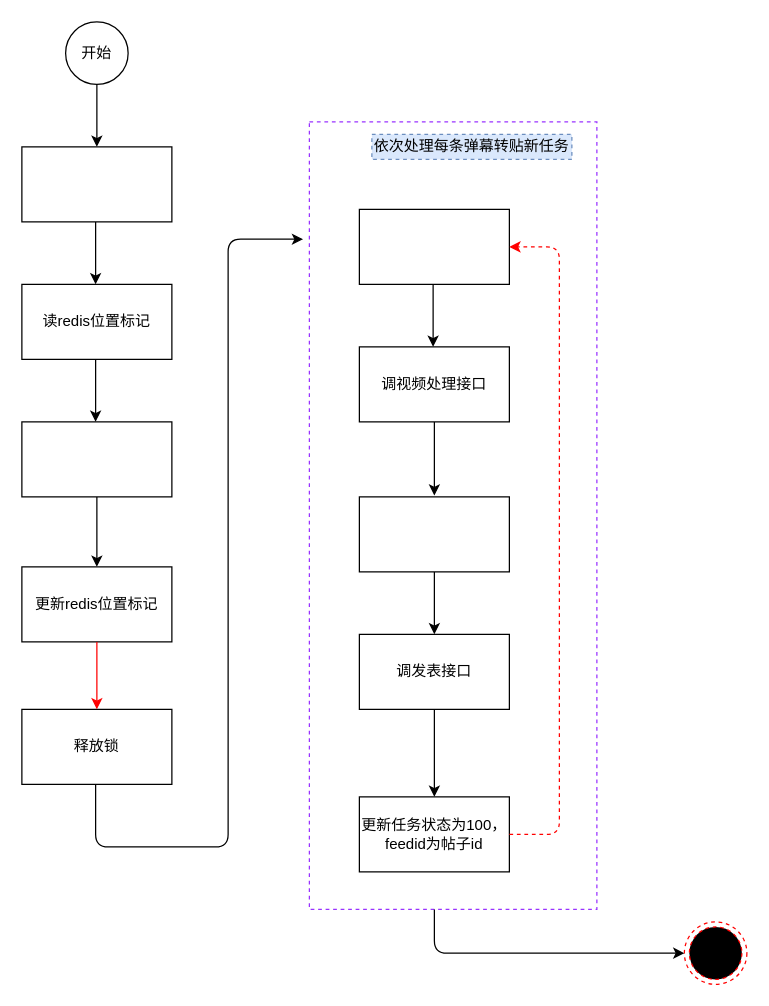
Image size: 769x1006. Some labels were removed from this diagram. Each missing label, with the centre of its shape:
加锁: (96,184)
扫任务DB，一次拉5条新任务: (96,459)
更新任务状态为1: (433,246)
更新任务状态为2，vvid为小视频id: (433,534)
